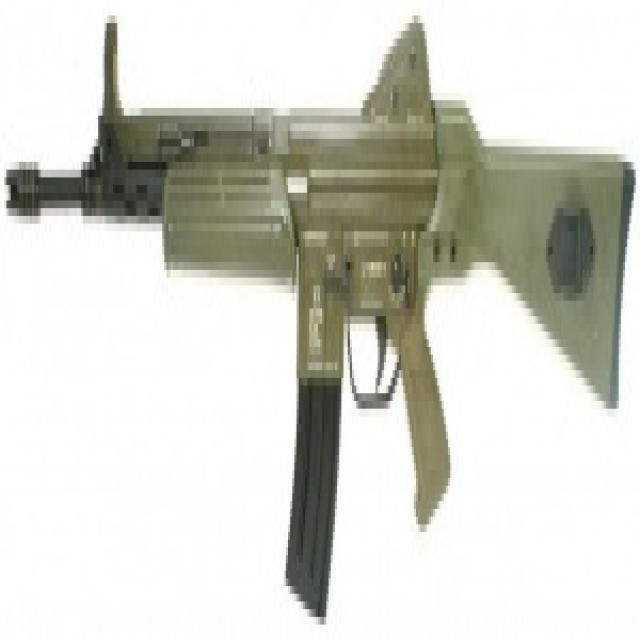rifle: (1, 3, 637, 640)
